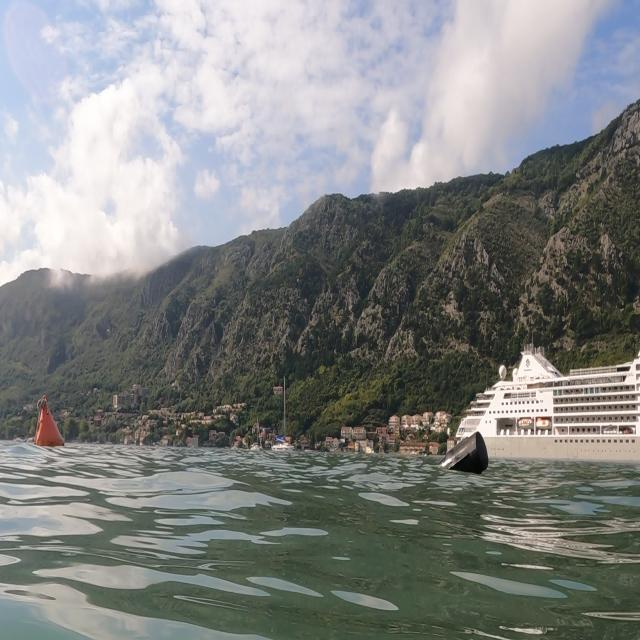boat: (438, 337, 638, 477)
buoy: (431, 431, 496, 488), (26, 389, 72, 458)
